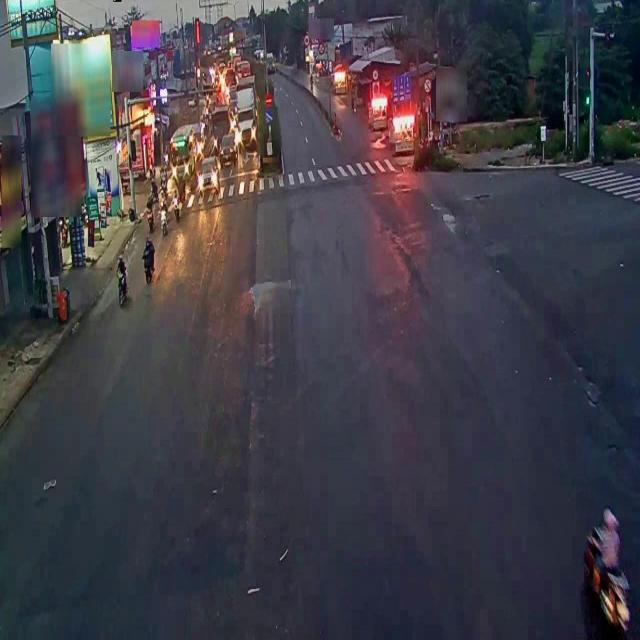motorcycle: (114, 252, 130, 313), (141, 231, 157, 286)
